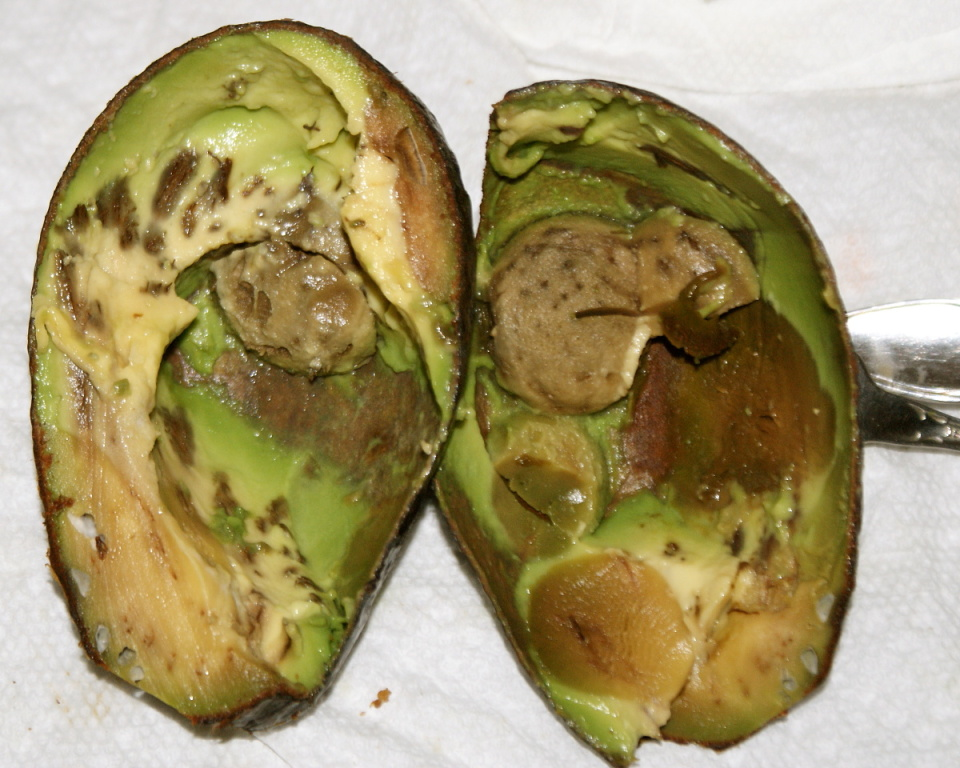damaged_avocado: (37, 22, 435, 744), (443, 79, 871, 741)
